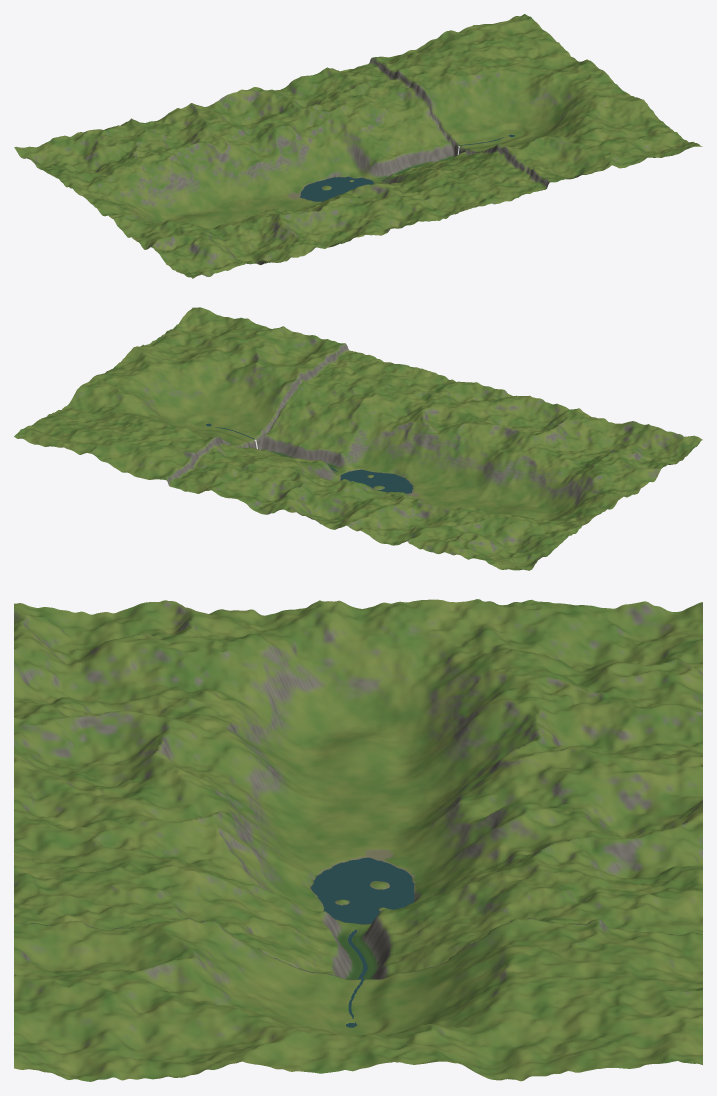
The model's file is stage1_terrain.glb.
The picture shows the model from 3 angles, top to bottom: view 1: azimuth 30°, elevation 25°; view 2: azimuth 150°, elevation 25°; view 3: azimuth 270°, elevation 25°; orthographic projection. The views are drawn at different scales.
Parts seen in each view (by area): view 1: terrain, water_lake; view 2: terrain, water_lake; view 3: terrain, water_lake.
Part boxes in pixels (box(x1,y1,x2,y2)): terrain: box(14, 14, 702, 278); water_lake: box(300, 176, 373, 201); terrain: box(14, 307, 702, 570); water_lake: box(340, 469, 412, 493); terrain: box(14, 599, 702, 1081); water_lake: box(311, 857, 414, 924).
Bounding box in the file's own units: 3296 × 292 × 2000.
